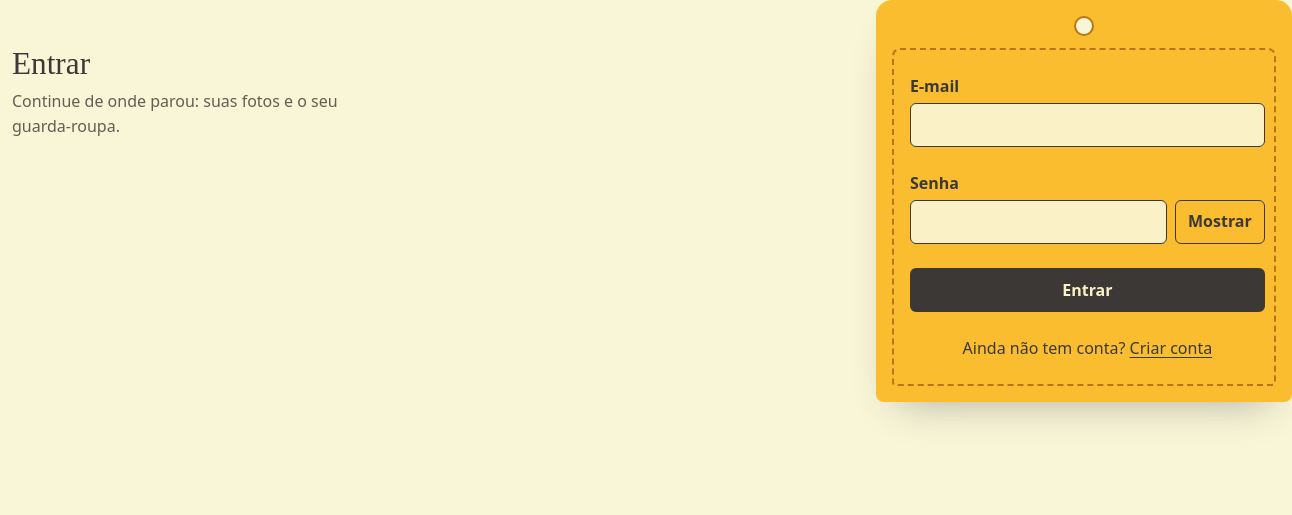
Test: login › explica a resposta 429
Type "joao@example.com" into the field labelled "E-mail" at coordinates (1087, 125), box [910,103,1265,147]
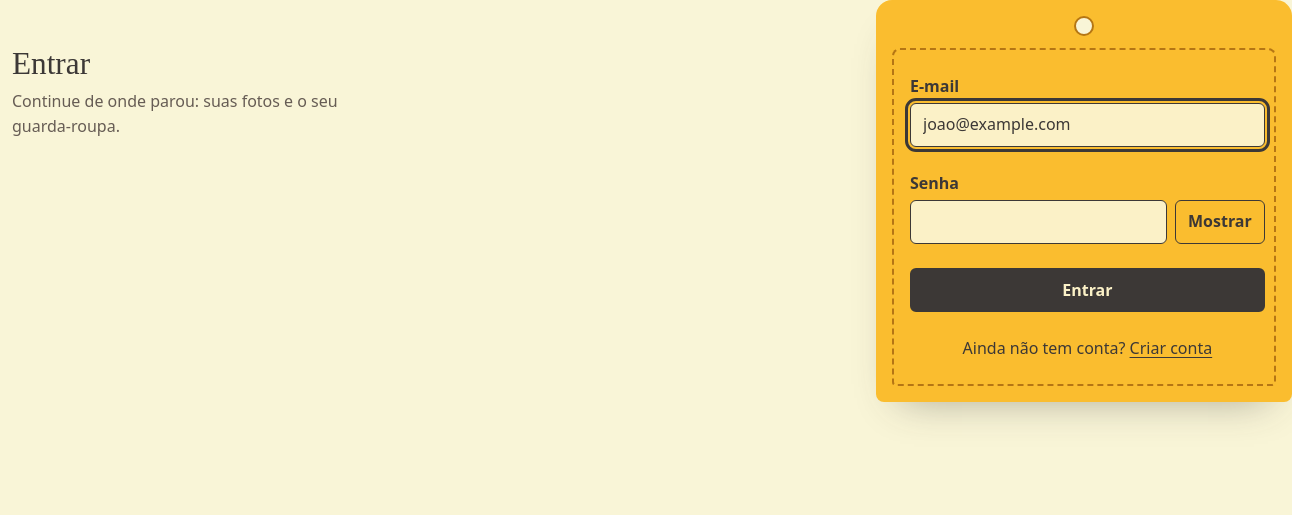
Type "senha-segura" into the password field labelled "Senha" at coordinates (1038, 222), box [910,200,1167,244]
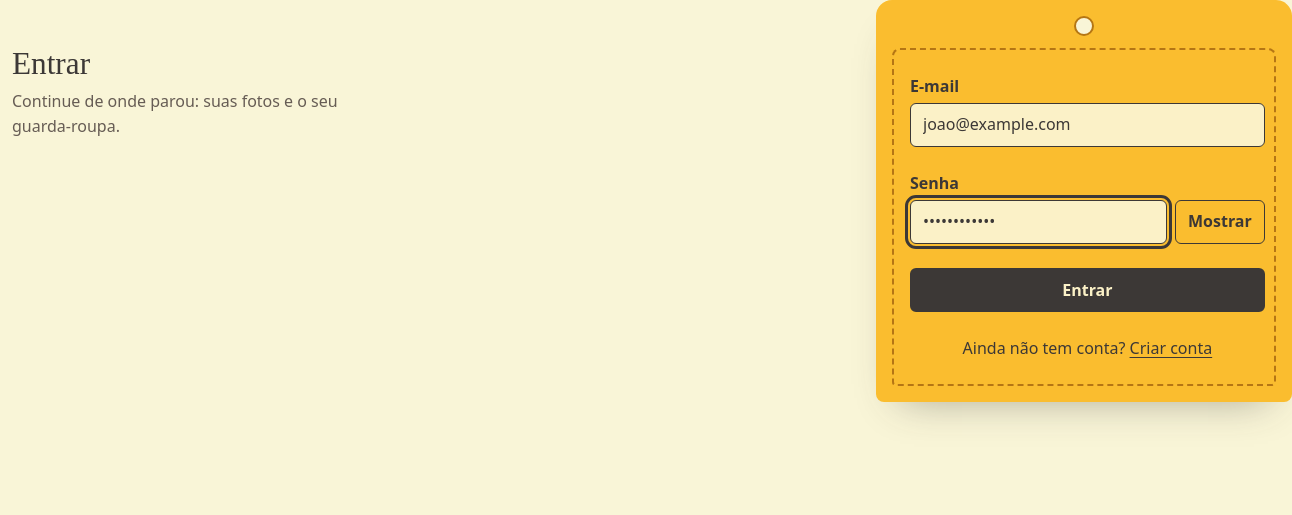
Click the button "Entrar" at coordinates (1087, 290), box [910,268,1265,312]
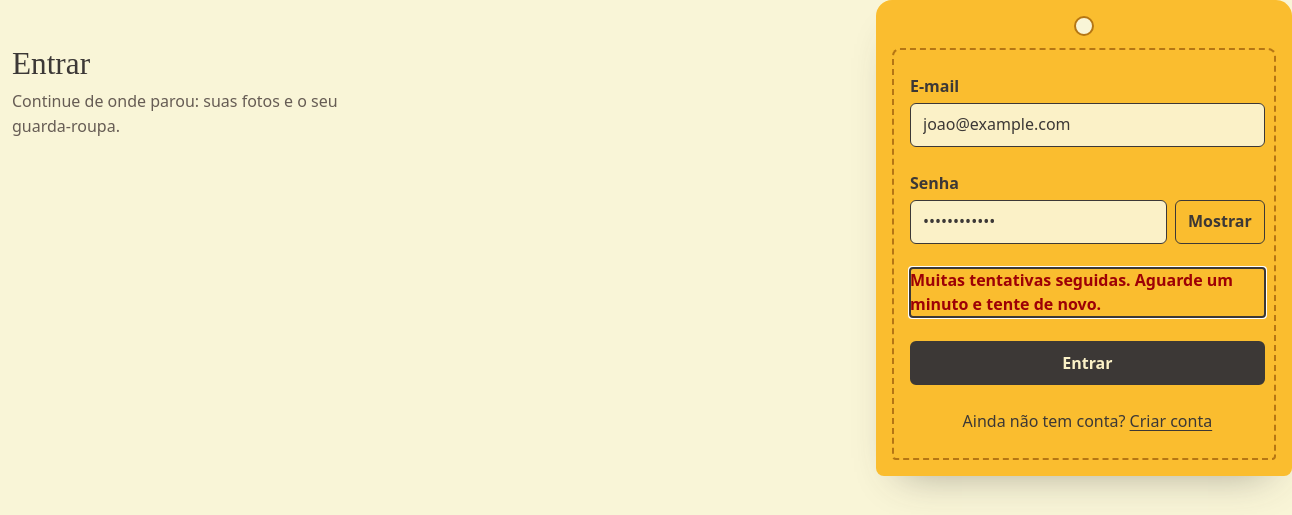
Expected: the message reads "Muitas tentativas seguidas. Aguarde um minuto e tente de novo.", [910,269,1233,315]
